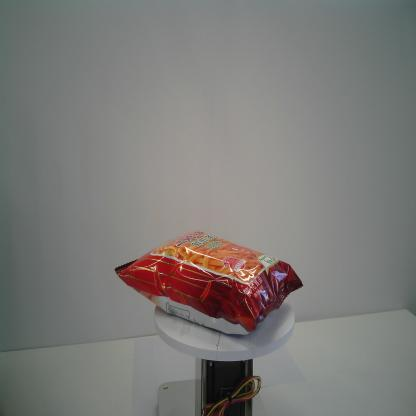Puffed Food: (114, 229, 305, 336)
